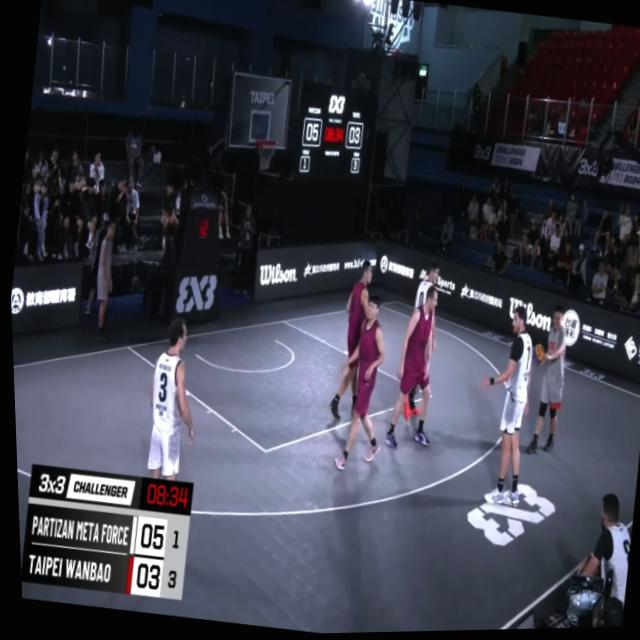ball: (524, 341, 545, 373)
hoop: (249, 134, 279, 180)
player: (460, 305, 543, 510), (131, 314, 208, 513), (321, 290, 400, 476), (379, 284, 448, 461), (321, 257, 380, 429), (393, 256, 450, 428)
